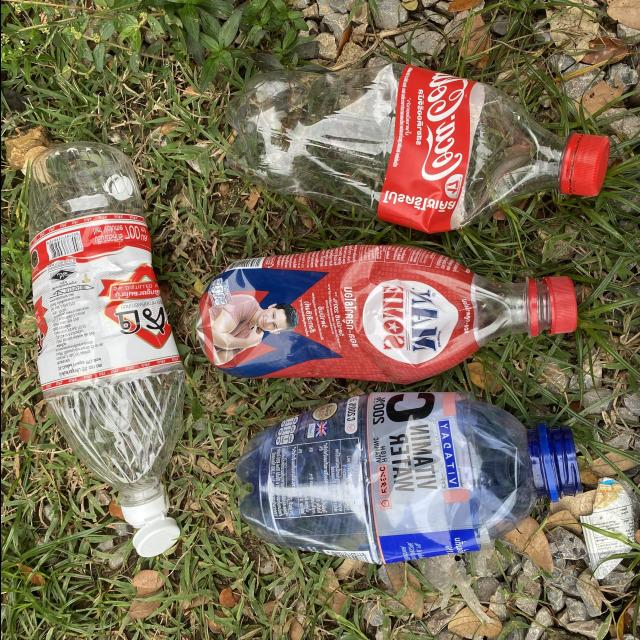plastik: (27, 142, 185, 556), (226, 64, 608, 232), (236, 392, 580, 564), (196, 245, 577, 383)
